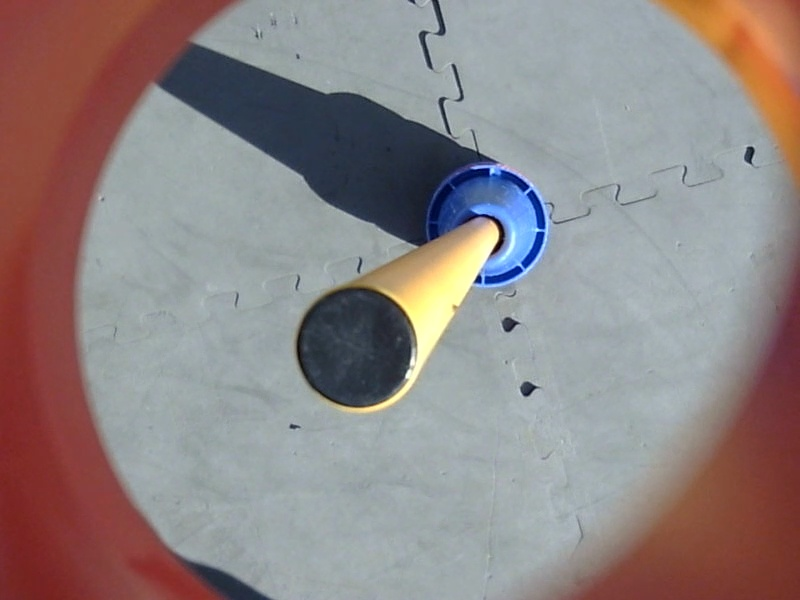tip: (287, 278, 431, 422)
